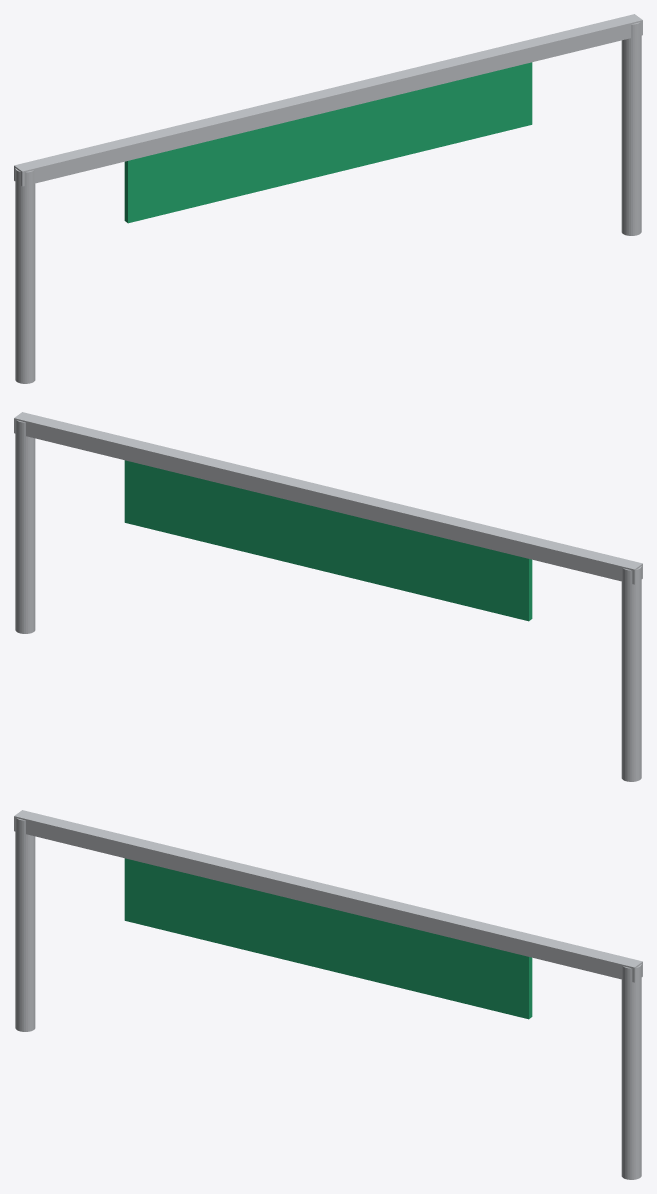
The model's file is overhead_gantry.glb.
3 renders of one model, top to bottom at view 1: azimuth 30°, elevation 25°; view 2: azimuth 150°, elevation 25°; view 3: azimuth 330°, elevation 25°, orthographic.
Parts seen in each view (by area): view 1: Cube.001, Cube, Cylinder, Cylinder.001; view 2: Cube.001, Cube, Cylinder, Cylinder.001; view 3: Cube.001, Cube, Cylinder.001, Cylinder.
Part boxes in pixels (box(x1,y1,x2,y2)): Cube.001: box(124, 62, 532, 223); Cube: box(14, 14, 642, 186); Cylinder: box(15, 168, 35, 383); Cylinder.001: box(621, 22, 641, 235); Cube.001: box(124, 460, 532, 621); Cube: box(14, 412, 642, 584); Cylinder: box(621, 566, 641, 781); Cylinder.001: box(15, 420, 35, 633); Cube.001: box(124, 858, 532, 1019); Cube: box(14, 810, 642, 982); Cylinder.001: box(621, 964, 641, 1179); Cylinder: box(15, 818, 35, 1031).
Size of the model in its own units: 21.6 by 7.05 by 0.6.
